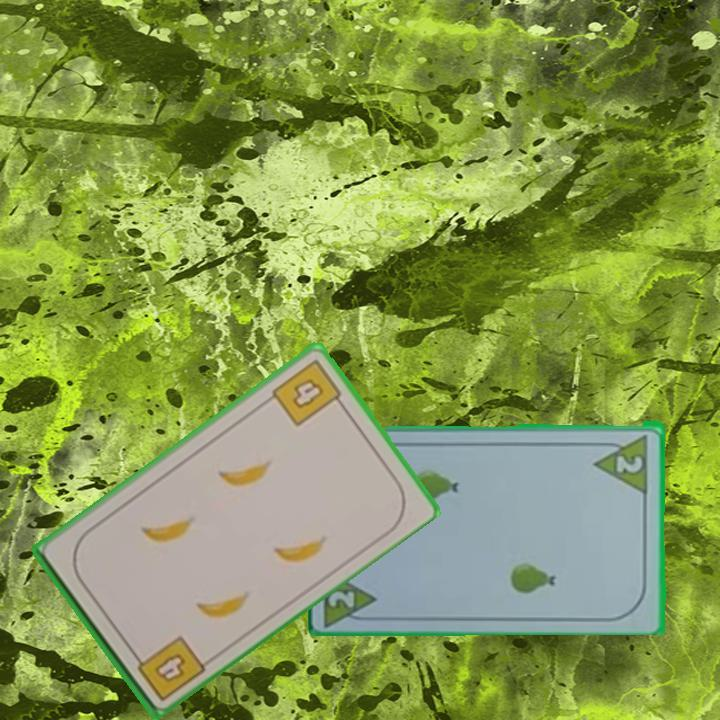2p: (592, 431, 651, 494), (325, 587, 358, 610)
4b: (268, 355, 348, 430), (128, 631, 208, 704)
